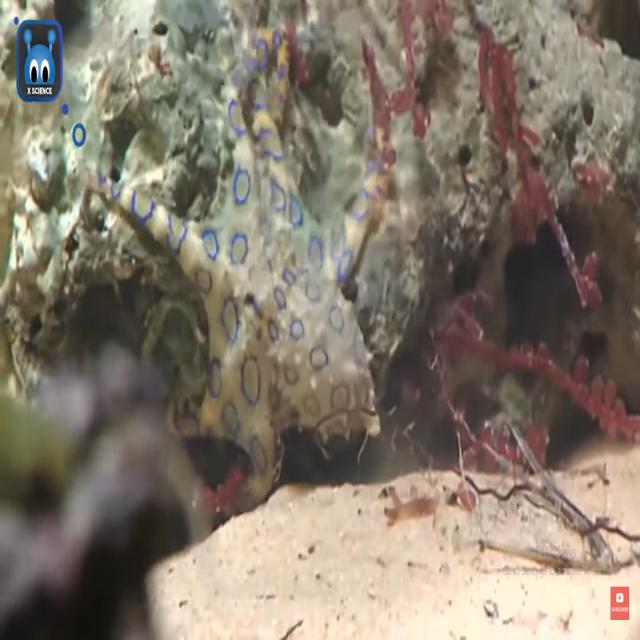blue_ringed_octopus: (81, 28, 385, 504)
